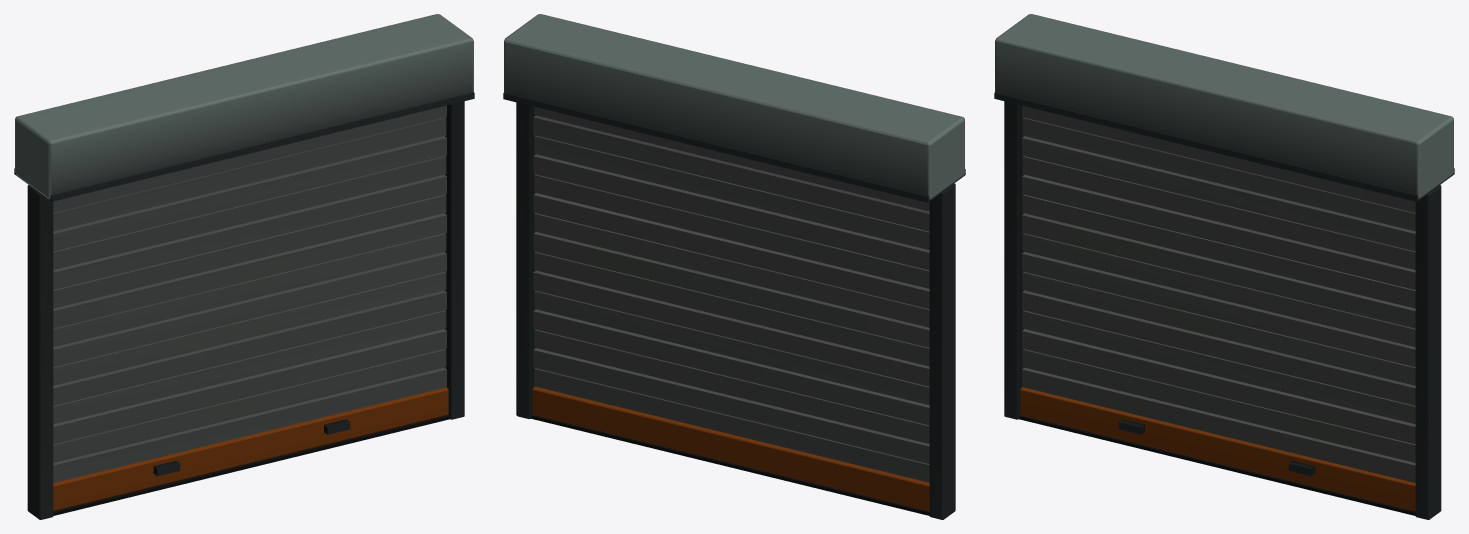
The model's file is roll_shutter.glb.
The picture shows the model from 3 angles, left to right: view 1: azimuth 30°, elevation 25°; view 2: azimuth 150°, elevation 25°; view 3: azimuth 330°, elevation 25°; orthographic projection.
Visible parts, largest first — view 1: RollShutter; view 2: RollShutter; view 3: RollShutter.
Boxes of the visible parts, x1,y1,x2,y2 form: RollShutter: (14, 14, 474, 519); RollShutter: (503, 14, 965, 519); RollShutter: (994, 14, 1454, 519).
Size of the model in its own units: 3 by 2.6 by 0.46.
